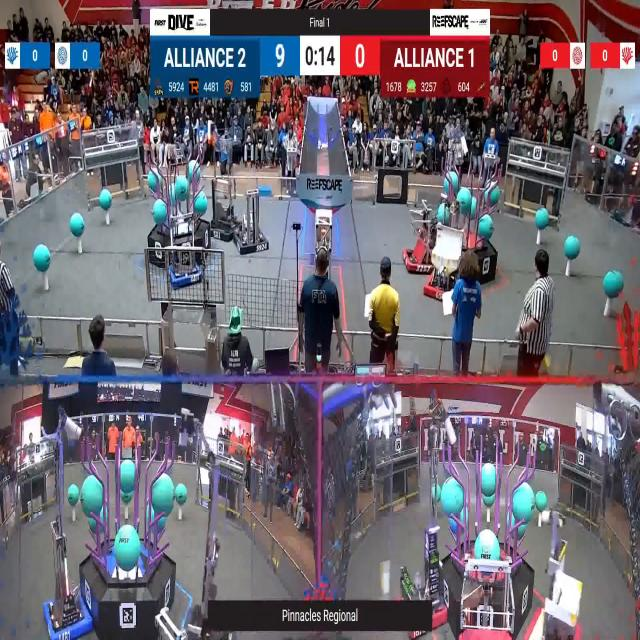scoreboard: (150, 36, 490, 95)
